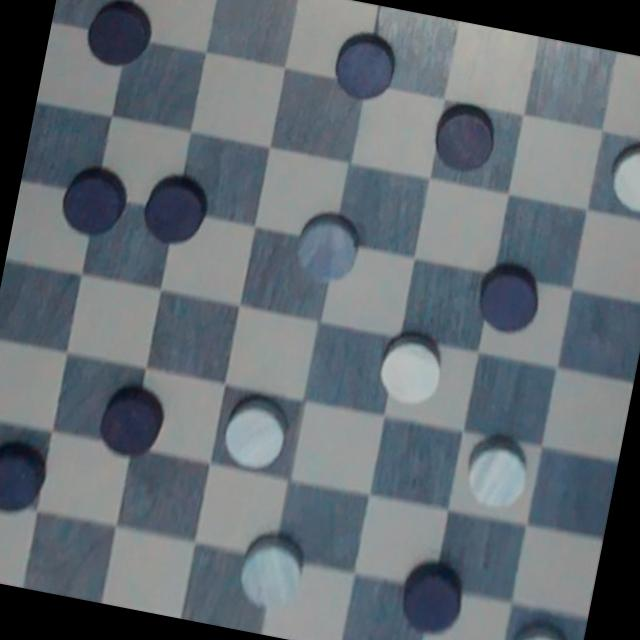BOARD: (0, 0, 640, 640)
black: (135, 162, 220, 255), (468, 256, 554, 341), (388, 551, 470, 640), (52, 160, 140, 242), (324, 27, 406, 112), (424, 96, 504, 180), (94, 380, 170, 460), (81, 0, 161, 75), (0, 435, 52, 521)
white: (232, 528, 318, 619), (366, 327, 454, 412), (458, 428, 536, 514), (288, 204, 364, 287), (216, 392, 290, 475), (600, 138, 640, 219), (501, 614, 585, 640)
